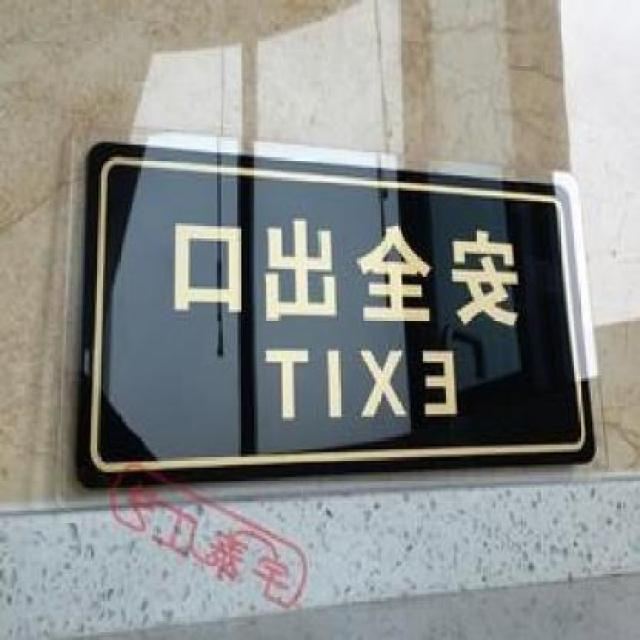exit_sign: (85, 136, 593, 458)
